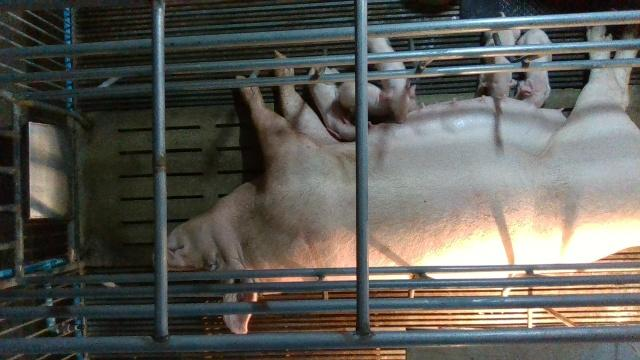piglet: (368, 37, 416, 124), (309, 66, 356, 140), (481, 30, 522, 96), (518, 28, 552, 107), (338, 82, 391, 119)
sow-sleep-lactate: (167, 27, 640, 334)
